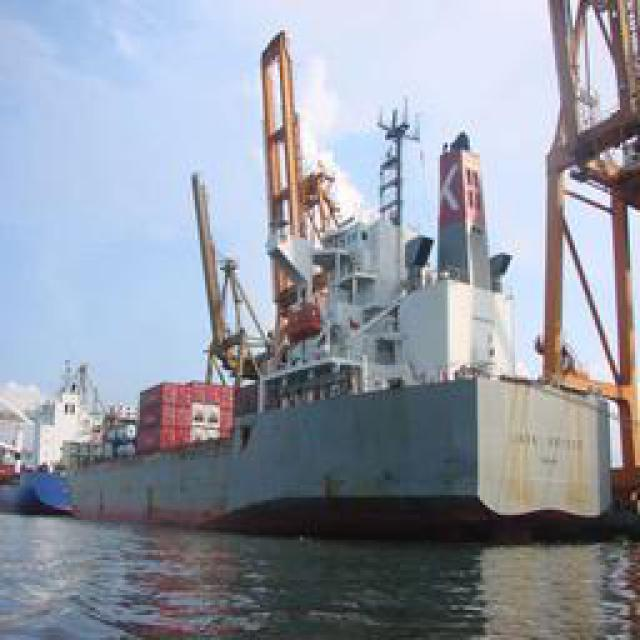Ship: (56, 18, 639, 543)
